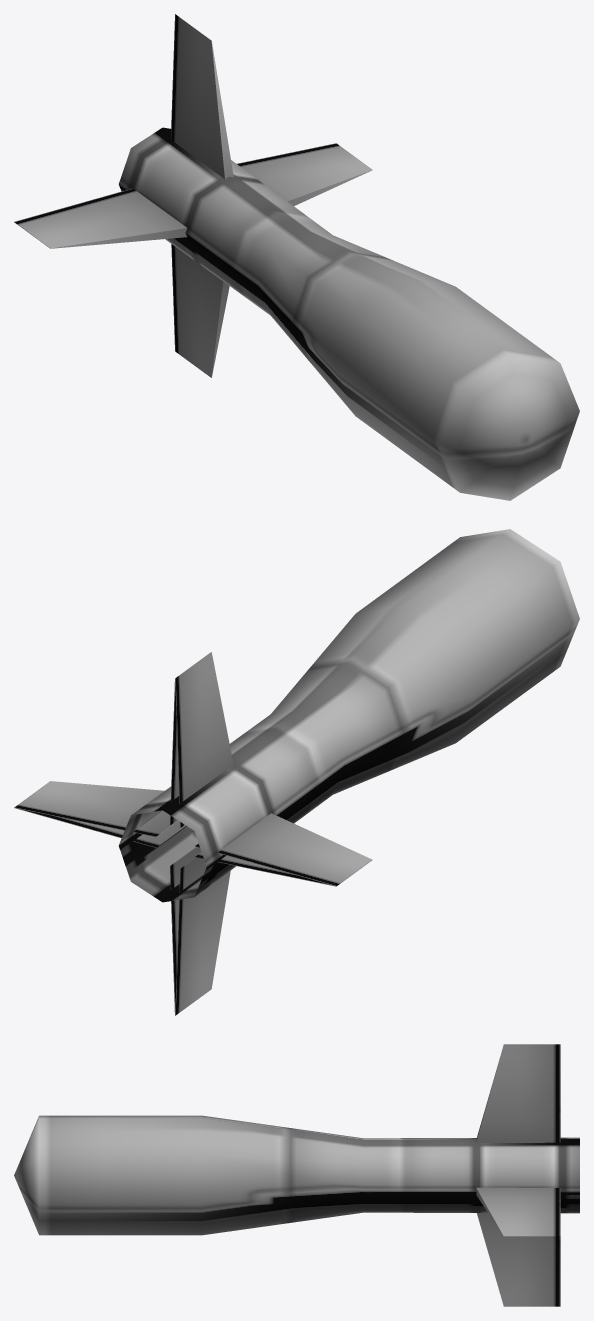
The picture shows the model from 3 angles, top to bottom: view 1: azimuth 30°, elevation 25°; view 2: azimuth 150°, elevation 25°; view 3: azimuth 270°, elevation 25°; orthographic projection. The views are drawn at different scales.
Visible parts, largest first — view 1: Box002; view 2: Box002; view 3: Box002.
Part boxes in pixels (x1,y1,x2,y2): Box002: [14, 14, 579, 500]; Box002: [14, 529, 579, 1015]; Box002: [14, 1044, 579, 1306].
Bounding box in the file's own units: 96.31 × 188 × 96.31.
